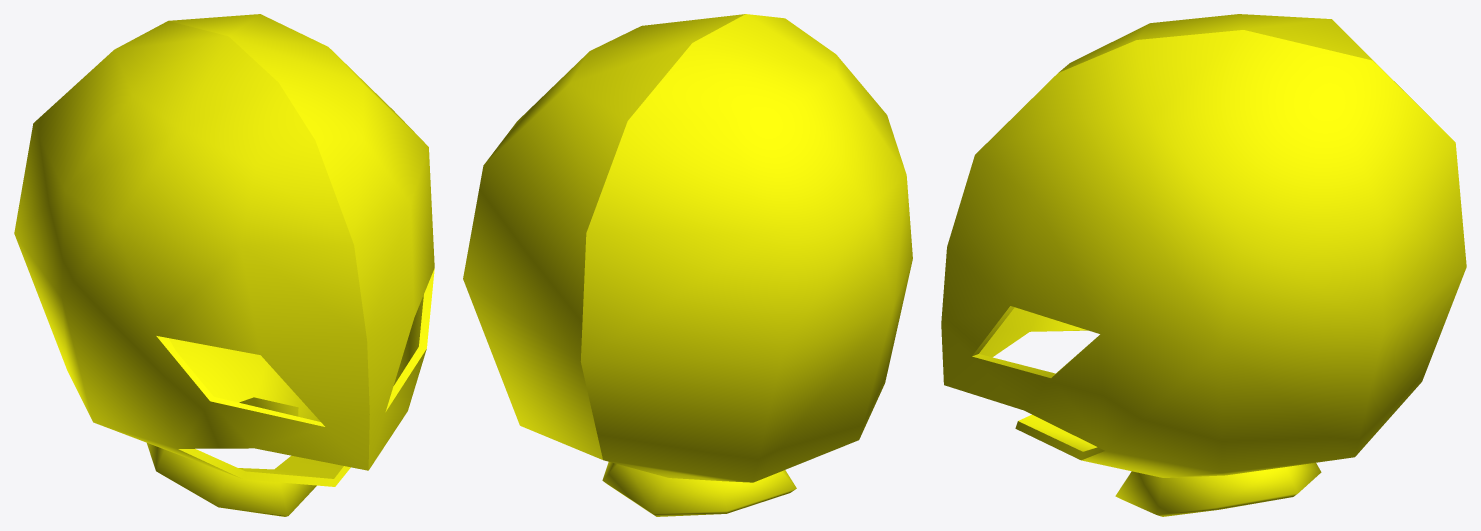
File: accessory_prisoner.glb
The picture shows the model from 3 angles, left to right: view 1: azimuth 30°, elevation 25°; view 2: azimuth 150°, elevation 25°; view 3: azimuth 270°, elevation 25°; orthographic projection. The views are drawn at different scales.
Parts seen in each view (by area): view 1: Griffith; view 2: Griffith; view 3: Griffith.
Part boxes in pixels (x1,y1,x2,y2): Griffith: [14, 14, 434, 516]; Griffith: [463, 14, 912, 516]; Griffith: [941, 14, 1466, 516].
Size of the model in its own units: 0.2486 by 0.2941 by 0.2979.
1 material, 1 textured.
